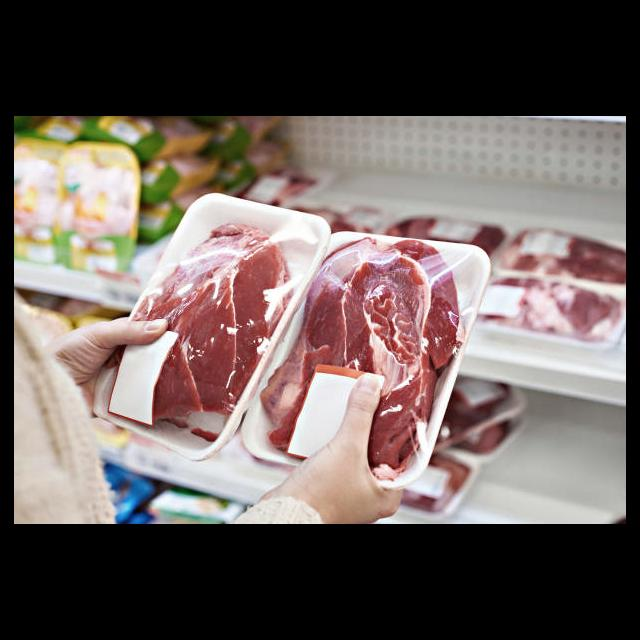beef: (257, 237, 460, 473), (108, 222, 295, 431)
